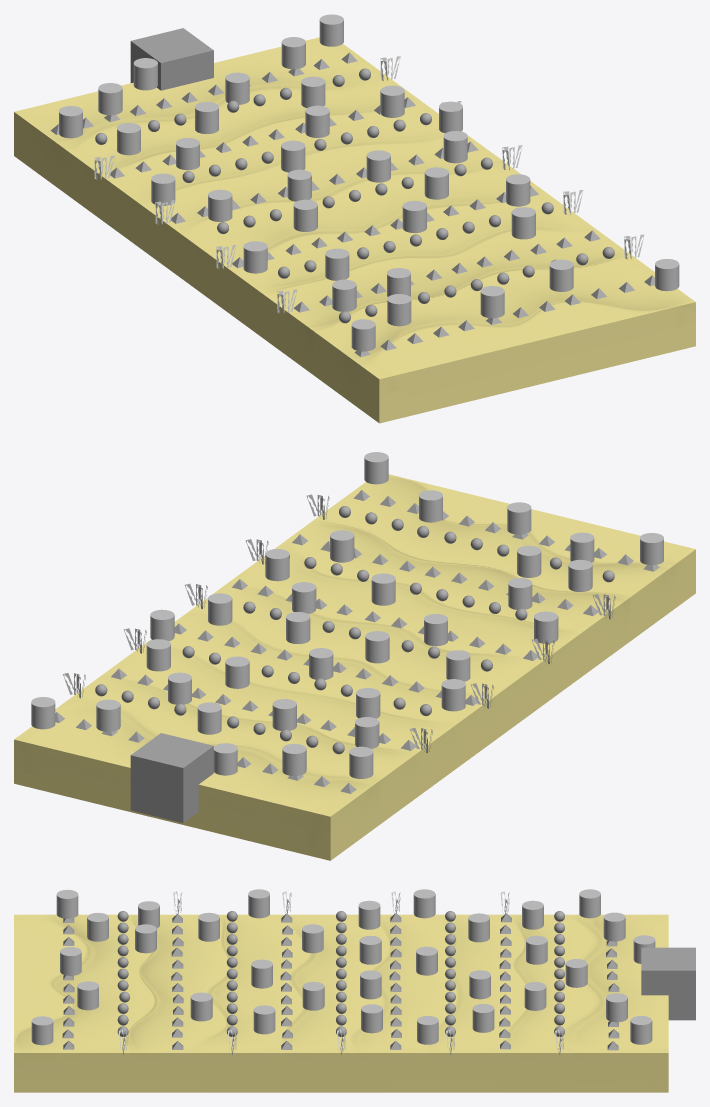
The model's file is assets007_Streckenteil_gerade001.fbx.
3 renders of one model, top to bottom at view 1: azimuth 30°, elevation 25°; view 2: azimuth 150°, elevation 25°; view 3: azimuth 270°, elevation 25°, orthographic. The views are drawn at different scales.
Visible parts, largest first — view 1: streckenteil_gerade_geo, b (×12), a (×12), c (×7), endpoint, d (×2); view 2: streckenteil_gerade_geo, a (×12), b (×12), endpoint, c (×7), d (×2); view 3: streckenteil_gerade_geo, b (×12), a (×12), c (×7), endpoint, d (×2).
Part boxes in pixels (x1,y1,x2,y2): streckenteil_gerade_geo: (14,37,695,423); b (×12): (195,37,467,326); a (×12): (287,150,679,351); c (×7): (117,14,404,205); endpoint: (130,28,213,90); d (×2): (59,83,122,138); streckenteil_gerade_geo: (14,474,695,860); a (×12): (265,452,663,663); b (×12): (96,532,594,734); endpoint: (130,733,213,823); c (×7): (31,639,465,775); d (×2): (282,743,373,778); streckenteil_gerade_geo: (14,914,668,1092); b (×12): (87,889,627,1044); a (×12): (31,889,381,1045); c (×7): (413,889,655,1044); endpoint: (641,947,695,1020); d (×2): (579,889,625,941).
Bounding box in the file's own units: 32.03 × 6.68 × 62.5.
